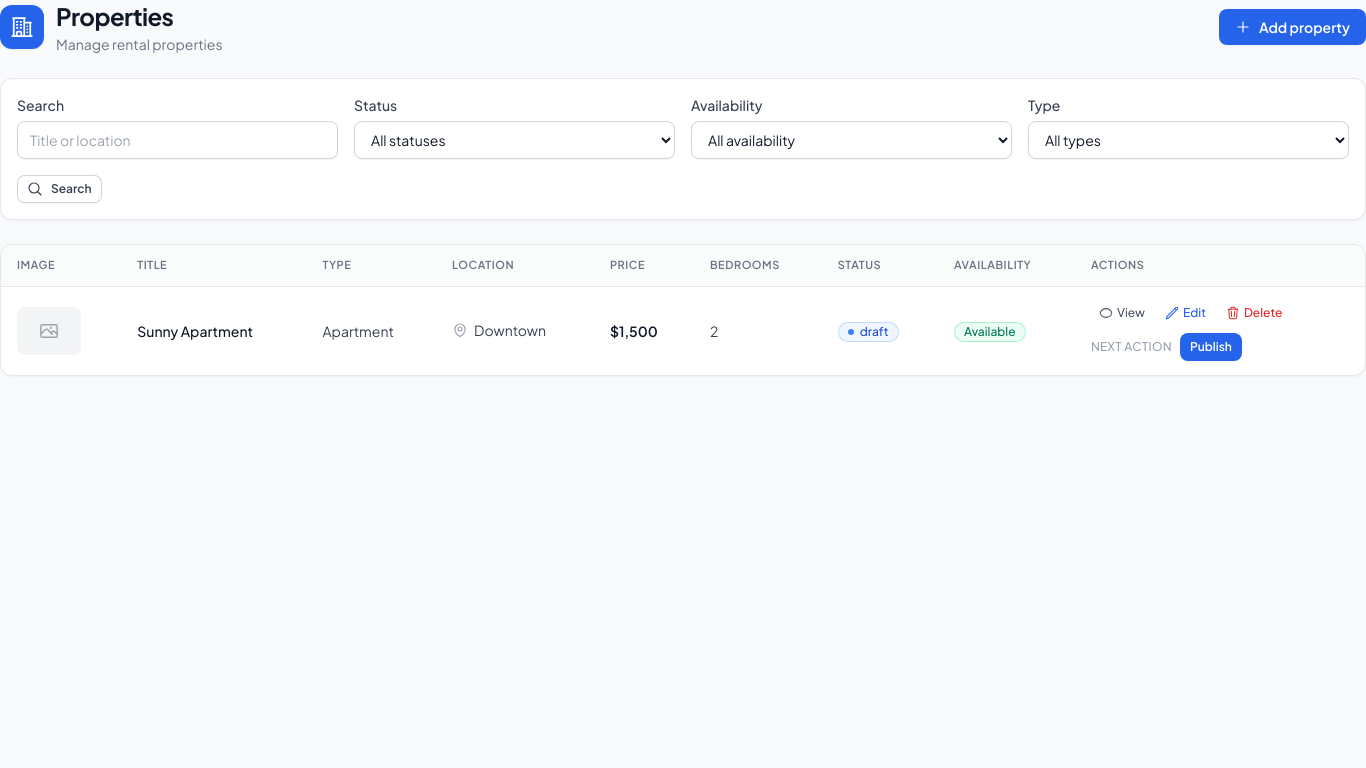
Scenario: PropertiesPage states › cancelling the delete dialog leaves the property in place
Expected: the link "Sunny Apartment" is shown, [137,322,253,340]
Click the button "Delete". click: (1254, 312)
box: [1218,300,1290,324]
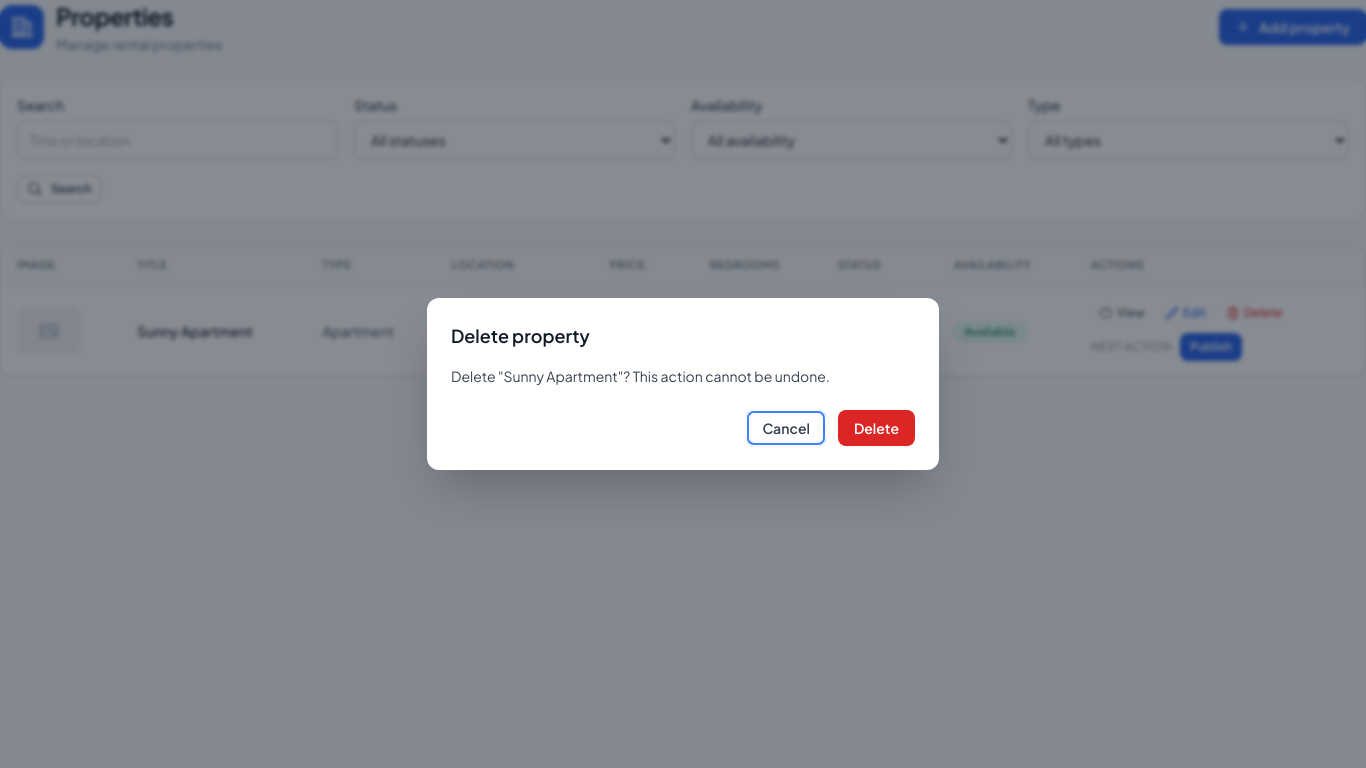
Result: the dialog "Delete property" is shown
Result: the text "Delete \"Sunny Apartment\"? This action cannot be undone." is shown at [451,367,830,385]
Click the button "Cancel". click: (786, 428)
box: [746,410,826,446]
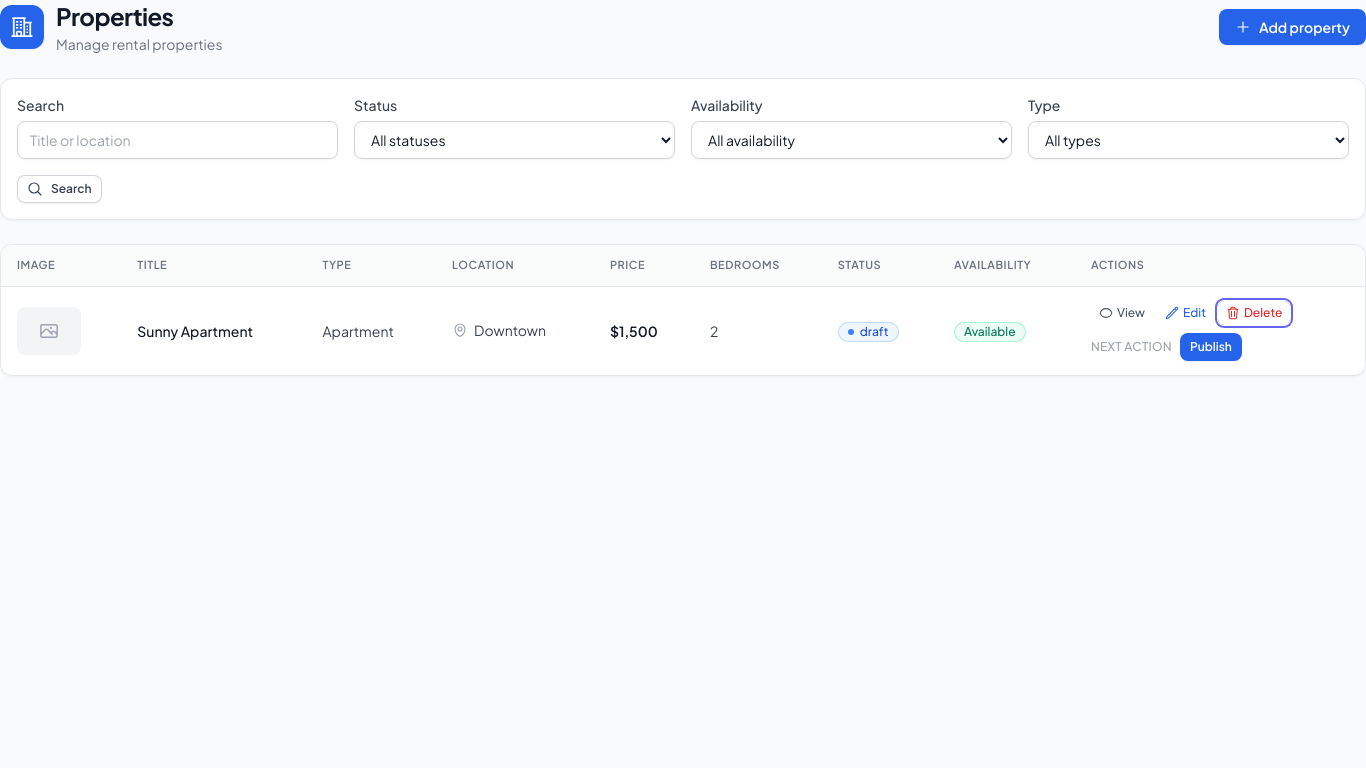
Expected: the link "Sunny Apartment" is shown, [137,322,253,340]
Result: the heading "Delete property" is gone
